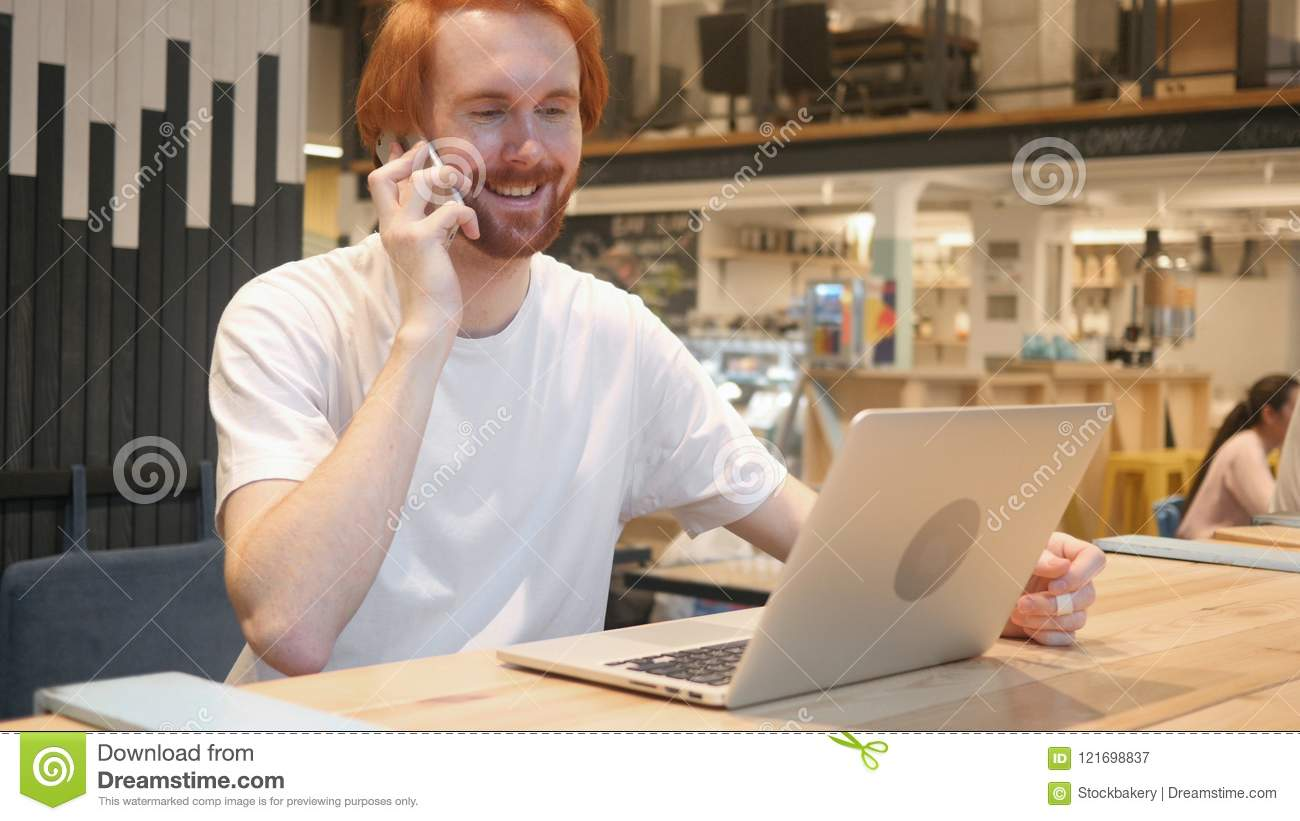phone: (370, 103, 469, 260)
talk: (369, 57, 589, 332)
